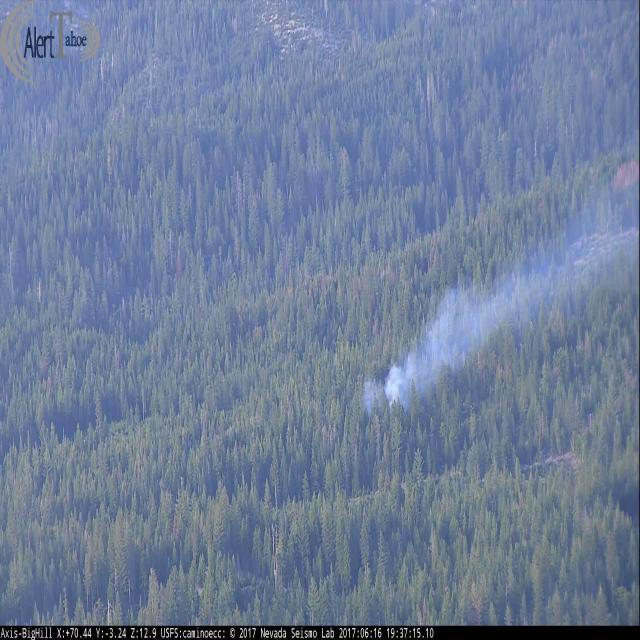smoke: (363, 178, 640, 416)
